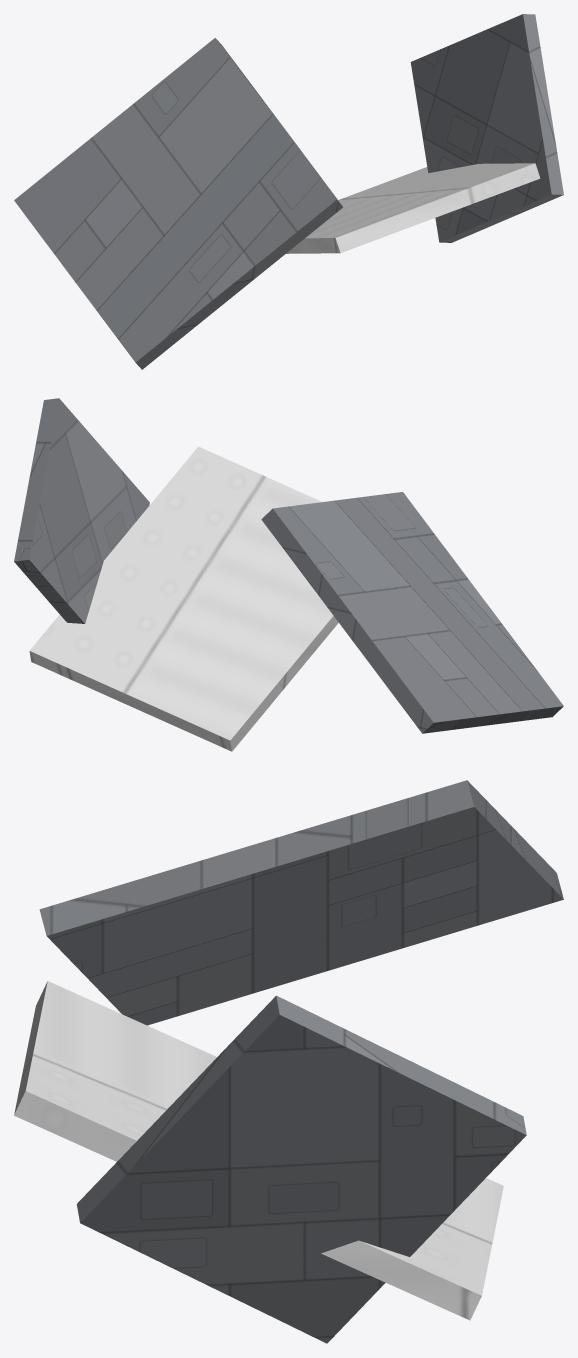
The model's file is frag_plate_curl.glb.
3 renders of one model, top to bottom at view 1: azimuth 30°, elevation 25°; view 2: azimuth 150°, elevation 25°; view 3: azimuth 270°, elevation 25°, orthographic. The views are drawn at different scales.
Visible parts, largest first — view 1: curl0, curl2, curl1; view 2: curl1, curl0, curl2; view 3: curl2, curl0, curl1.
Boxes of the visible parts, left/top/right/bottom form: curl0: left=14, top=38, right=342, bottom=369; curl2: left=410, top=14, right=563, bottom=242; curl1: left=286, top=163, right=540, bottom=253; curl1: left=29, top=446, right=338, bottom=751; curl0: left=261, top=492, right=563, bottom=733; curl2: left=14, top=398, right=149, bottom=623; curl2: left=76, top=995, right=526, bottom=1343; curl0: left=39, top=780, right=563, bottom=1025; curl1: left=14, top=981, right=503, bottom=1320.
Size of the model in its own units: 6 by 2.99 by 3.67.
2 materials, 2 textured.
